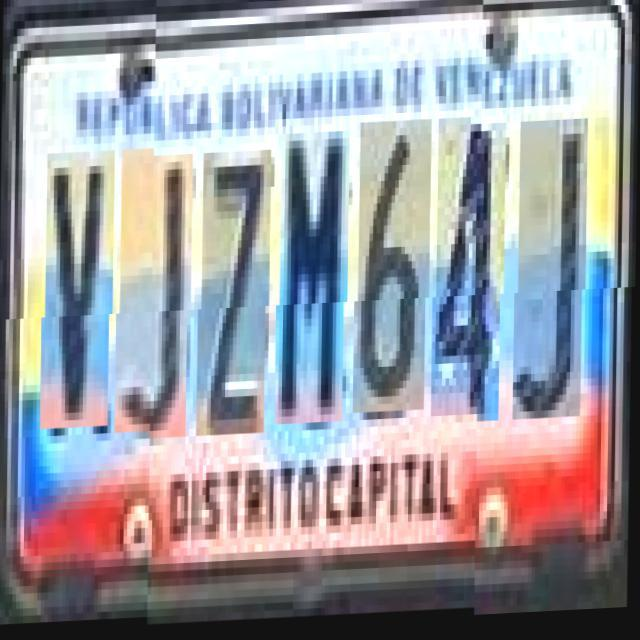4: (436, 120, 506, 420)
6: (358, 124, 432, 417)
J: (120, 156, 194, 442), (518, 118, 588, 418)
M: (279, 134, 350, 428)
V: (44, 159, 116, 437)
Z: (201, 152, 272, 438)
